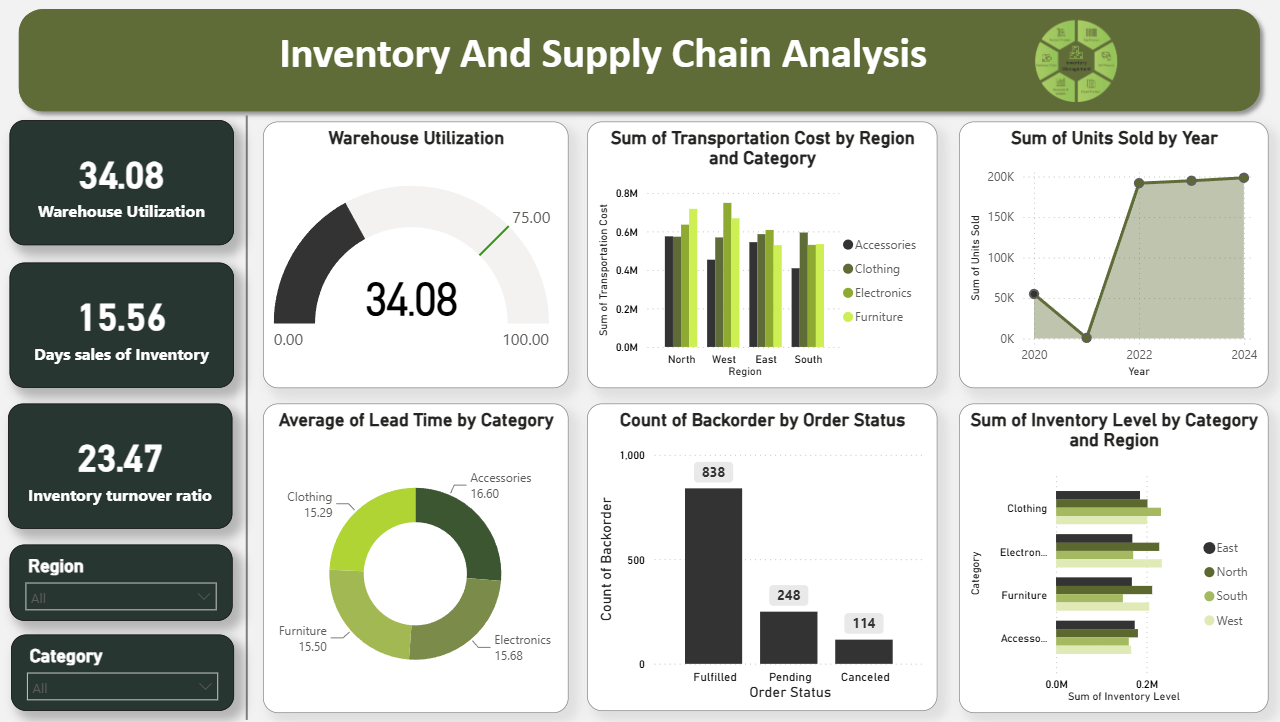

The page's visual inventory and layout, read from the dashboard file:
{"tool":"powerbi","page":{"name":"Page 1","canvas":[1280,720],"ordinal":0},"visuals":[{"type":"shape","box":[13,0,1253.3,119.8],"z":0},{"type":"textbox","box":[199.2,21,811.2,95.5],"z":1000},{"type":"image","box":[984.5,11.3,179.7,97.2],"z":2000},{"type":"shape","box":[234.9,115.4,30.4,601.5],"z":3000},{"type":"card","fields":{"Values":["Inventory Supply Chain Dataset.Warehouse Utilization"]},"box":[13,119.8,223.5,124.7],"z":4000},{"type":"card","fields":{"Values":["Inventory Supply Chain Dataset.Days sales of Inventory"]},"box":[13,260.7,223.5,124.7],"z":5000},{"type":"card","fields":{"Values":["Inventory Supply Chain Dataset.Inventory turnover ratio"]},"box":[11.3,401.6,223.5,124.7],"z":6000},{"type":"slicer","fields":{"Values":["Inventory Supply Chain Dataset.Region"]},"box":[13,542.4,221.8,76.1],"z":7000},{"type":"slicer","fields":{"Values":["Inventory Supply Chain Dataset.Category"]},"box":[14.6,631.5,221.8,76.1],"z":8000},{"type":"gauge","fields":{"Y":["Inventory Supply Chain Dataset.Warehouse Utilization"]},"box":[265.3,121.5,303.8,265.3],"z":9000},{"type":"clusteredColumnChart","fields":{"Category":["Inventory Supply Chain Dataset.Region"],"Y":["Sum(Inventory Supply Chain Dataset.Transportation Cost)"],"Series":["Inventory Supply Chain Dataset.Category"]},"box":[587.3,121.5,348.4,265.3],"z":10000},{"type":"lineChart","fields":{"Y":["Sum(Inventory Supply Chain Dataset.Units Sold)"],"Category":["Inventory Supply Chain Dataset.Date.Variation.Date Hierarchy.Year"]},"box":[958,121.5,307.8,265.3],"z":11000},{"type":"donutChart","title":"Average of Lead Time  by Category","fields":{"Y":["Avg(Inventory Supply Chain Dataset.Lead Time (Days))"],"Category":["Inventory Supply Chain Dataset.Category"]},"box":[265.3,401,303.8,307.8],"z":12000},{"type":"clusteredColumnChart","fields":{"Category":["Inventory Supply Chain Dataset.Order Status"],"Y":["CountNonNull(Inventory Supply Chain Dataset.Backorder)"]},"box":[587.3,401,348.4,305.8],"z":13000},{"type":"clusteredBarChart","fields":{"Category":["Inventory Supply Chain Dataset.Category"],"Y":["Sum(Inventory Supply Chain Dataset.Inventory Level)"],"Series":["Inventory Supply Chain Dataset.Region"]},"box":[958,401,307.8,307.8],"z":14000}]}

Visuals, with their boxes in screenshot pixels (x1, y1, x2, y2), scaled from the page's 1280x720 canvas onto the 1280x722 screenshot:
shape: 13,0,1266,120
textbox: 199,21,1010,117
image: 984,11,1164,109
shape: 235,116,265,719
card - Inventory Supply Chain Dataset.Warehouse Utilization: 13,120,236,245
card - Inventory Supply Chain Dataset.Days sales of Inventory: 13,261,236,386
card - Inventory Supply Chain Dataset.Inventory turnover ratio: 11,403,235,528
slicer - Inventory Supply Chain Dataset.Region: 13,544,235,620
slicer - Inventory Supply Chain Dataset.Category: 15,633,236,710
gauge - Inventory Supply Chain Dataset.Warehouse Utilization: 265,122,569,388
clusteredColumnChart - Inventory Supply Chain Dataset.Region x Sum(Inventory Supply Chain Dataset.Transportation Cost): 587,122,936,388
lineChart - Sum(Inventory Supply Chain Dataset.Units Sold) x Inventory Supply Chain Dataset.Date.Variation.Date Hierarchy.Year: 958,122,1266,388
"Average of Lead Time  by Category" donutChart: 265,402,569,711
clusteredColumnChart - Inventory Supply Chain Dataset.Order Status x CountNonNull(Inventory Supply Chain Dataset.Backorder): 587,402,936,709
clusteredBarChart - Inventory Supply Chain Dataset.Category x Sum(Inventory Supply Chain Dataset.Inventory Level): 958,402,1266,711
